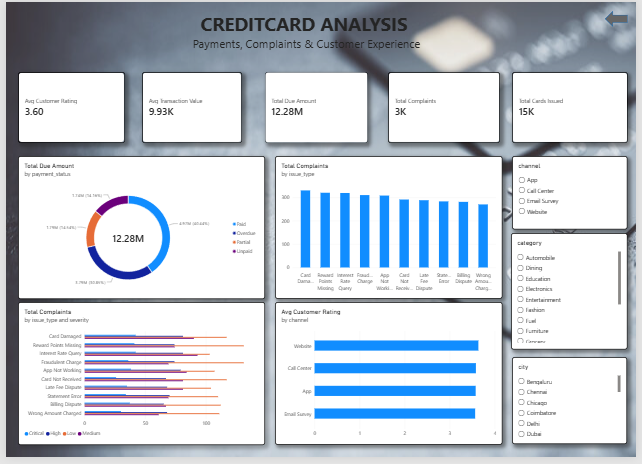

What the dashboard file says about the page in this screenshot:
{"tool":"powerbi","page":{"name":"Duplicate of Fraud & Risk Monitoring","canvas":[1800,1300],"ordinal":3},"visuals":[{"type":"textbox","box":[380,25,957.5,135],"z":0},{"type":"cardVisual","fields":{"Data":["customer_reviews_clean.Avg Customer Rating"]},"box":[34.3,200,305.7,202.9],"z":1000},{"type":"cardVisual","fields":{"Data":["transaction_details_clean.Avg Transaction Value"]},"box":[387.5,200,285.7,202.9],"z":2000},{"type":"cardVisual","fields":{"Data":["payment_dues_clean.Total Due Amount"]},"box":[740,200,294.3,202.9],"z":3000},{"type":"cardVisual","fields":{"Data":["card_quality_details_clean.Total Cards Issued"]},"box":[1445.7,200,331.4,202.9],"z":4000},{"type":"cardVisual","fields":{"Data":["complaint_quality_details_clean.Total Complaints"]},"box":[1092.5,200,320,202.9],"z":5000},{"type":"donutChart","fields":{"Y":["payment_dues_clean.Total Due Amount"],"Category":["payment_dues_clean.payment_status"]},"box":[34.3,440,705.7,408.6],"z":6000},{"type":"columnChart","fields":{"Category":["complaint_quality_details_clean.issue_type"],"Y":["complaint_quality_details_clean.Total Complaints"]},"box":[767.5,440,650,407.5],"z":7000},{"type":"clusteredBarChart","fields":{"Y":["complaint_quality_details_clean.Total Complaints"],"Category":["complaint_quality_details_clean.issue_type"],"Series":["complaint_quality_details_clean.severity"]},"box":[34.3,857.1,705.7,408.6],"z":8000},{"type":"clusteredBarChart","fields":{"Y":["customer_reviews_clean.Avg Customer Rating"],"Category":["customer_reviews_clean.channel"]},"box":[767.5,857.5,650,407.5],"z":9000},{"type":"listSlicer","fields":{"Values":["customer_reviews_clean.channel"]},"box":[1445,440,330,210],"z":10000},{"type":"listSlicer","fields":{"Values":["merchant_details_clean.category"]},"box":[1442.5,660,332.5,332.5],"z":11000},{"type":"listSlicer","fields":{"Values":["merchant_details_clean.city"]},"box":[1445.6,1015.6,328.9,248.9],"z":12000},{"type":"shape","box":[1710,25,65,45],"z":13000}]}

Visuals, with their boxes in screenshot pixels (x1, y1, x2, y2), scaled from the page's 1800x1300 canvas onto the 642x464 screenshot:
textbox: bbox=[136, 9, 477, 57]
cardVisual - customer_reviews_clean.Avg Customer Rating: bbox=[12, 71, 121, 144]
cardVisual - transaction_details_clean.Avg Transaction Value: bbox=[138, 71, 240, 144]
cardVisual - payment_dues_clean.Total Due Amount: bbox=[264, 71, 369, 144]
cardVisual - card_quality_details_clean.Total Cards Issued: bbox=[516, 71, 634, 144]
cardVisual - complaint_quality_details_clean.Total Complaints: bbox=[390, 71, 504, 144]
donutChart - payment_dues_clean.Total Due Amount x payment_dues_clean.payment_status: bbox=[12, 157, 264, 303]
columnChart - complaint_quality_details_clean.issue_type x complaint_quality_details_clean.Total Complaints: bbox=[274, 157, 506, 302]
clusteredBarChart - complaint_quality_details_clean.Total Complaints x complaint_quality_details_clean.issue_type: bbox=[12, 306, 264, 452]
clusteredBarChart - customer_reviews_clean.Avg Customer Rating x customer_reviews_clean.channel: bbox=[274, 306, 506, 452]
listSlicer - customer_reviews_clean.channel: bbox=[515, 157, 633, 232]
listSlicer - merchant_details_clean.category: bbox=[514, 236, 633, 354]
listSlicer - merchant_details_clean.city: bbox=[516, 362, 633, 451]
shape: bbox=[610, 9, 633, 25]
